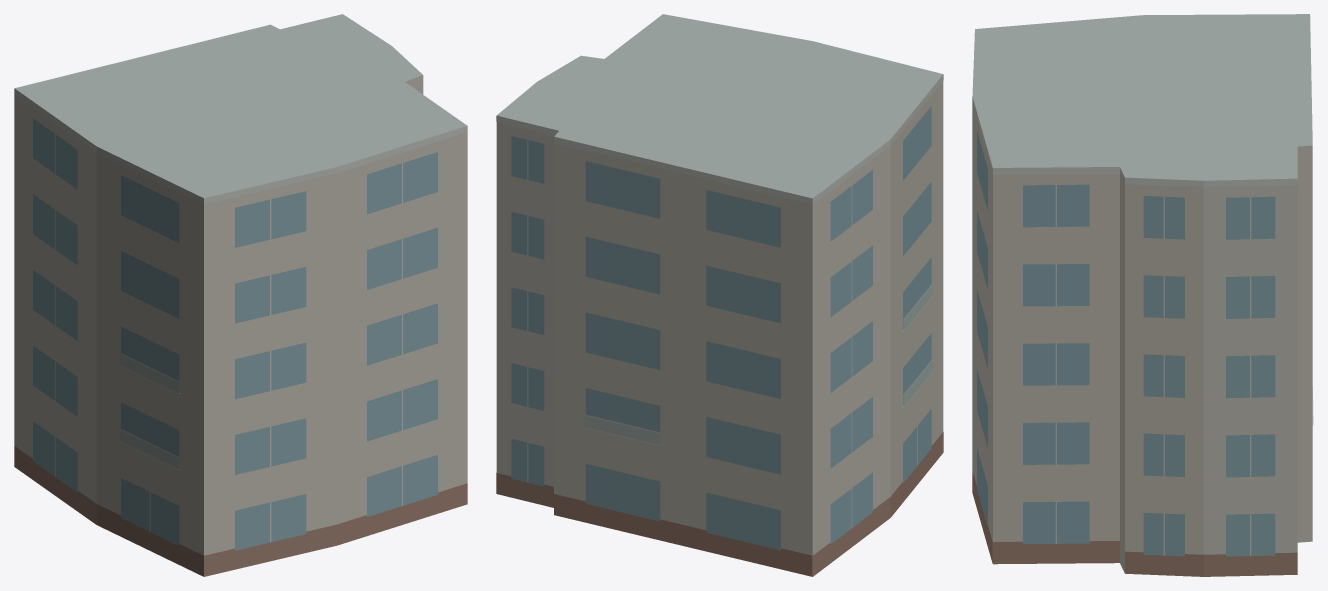
File: survey-upis-33005929.glb
3 views of the same model, side by side, from view 1: azimuth 30°, elevation 25°; view 2: azimuth 150°, elevation 25°; view 3: azimuth 270°, elevation 25° (orthographic). The views are drawn at different scales.
Visible parts, largest first — view 1: survey-upis-33005929.tmp; view 2: survey-upis-33005929.tmp; view 3: survey-upis-33005929.tmp.
Boxes of the visible parts, x1,y1,x2,y2 form: survey-upis-33005929.tmp: (14, 14, 467, 576); survey-upis-33005929.tmp: (496, 14, 943, 576); survey-upis-33005929.tmp: (972, 14, 1313, 576).
Size of the model in its own units: 13.19 by 14.6 by 11.4.
